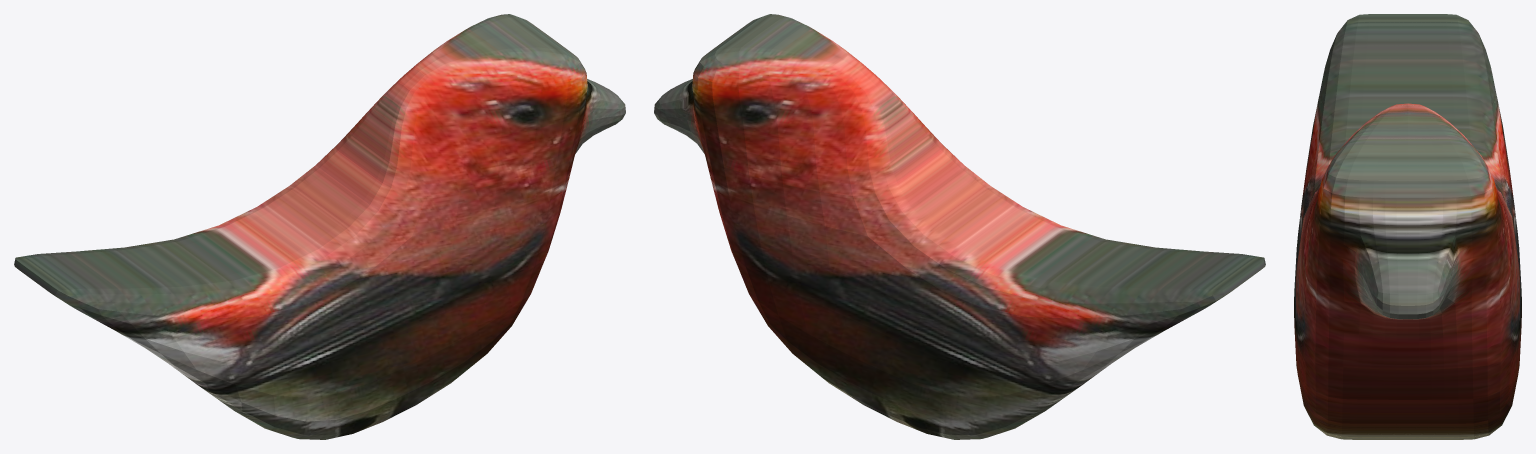
The model's file is apapane.fbx.
3 views of the same model, side by side, from view 1: azimuth 30°, elevation 25°; view 2: azimuth 150°, elevation 25°; view 3: azimuth 270°, elevation 25° (orthographic). The views are drawn at different scales.
Parts seen in each view (by area): view 1: Cube; view 2: Cube; view 3: Cube.
Part boxes in pixels (x1,y1,x2,y2): Cube: (14,14,625,439); Cube: (654,14,1265,439); Cube: (1294,14,1521,439).
Size of the model in its own units: 406 by 220 by 117.
1 material, 1 textured.
